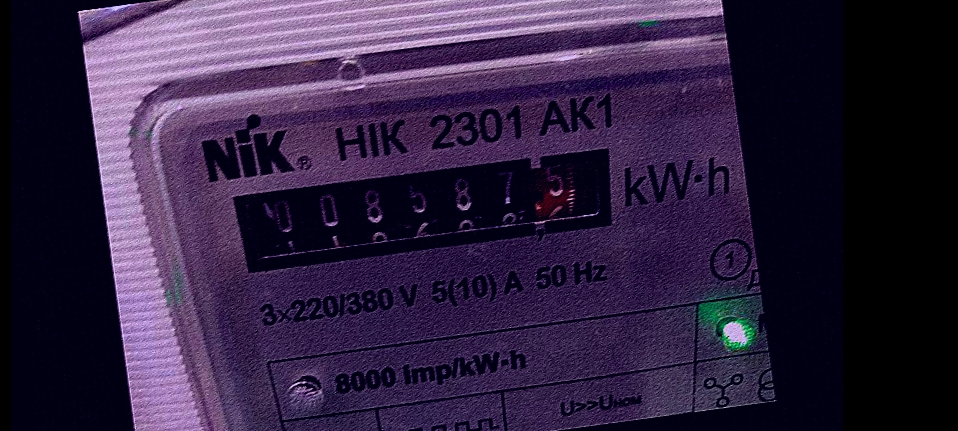0: (314, 187, 343, 230)
1: (268, 193, 297, 237)
5: (541, 157, 570, 200), (404, 176, 432, 217)
7: (492, 165, 521, 209)
8: (358, 183, 388, 227), (449, 171, 475, 215)
screen: (210, 123, 640, 297)
